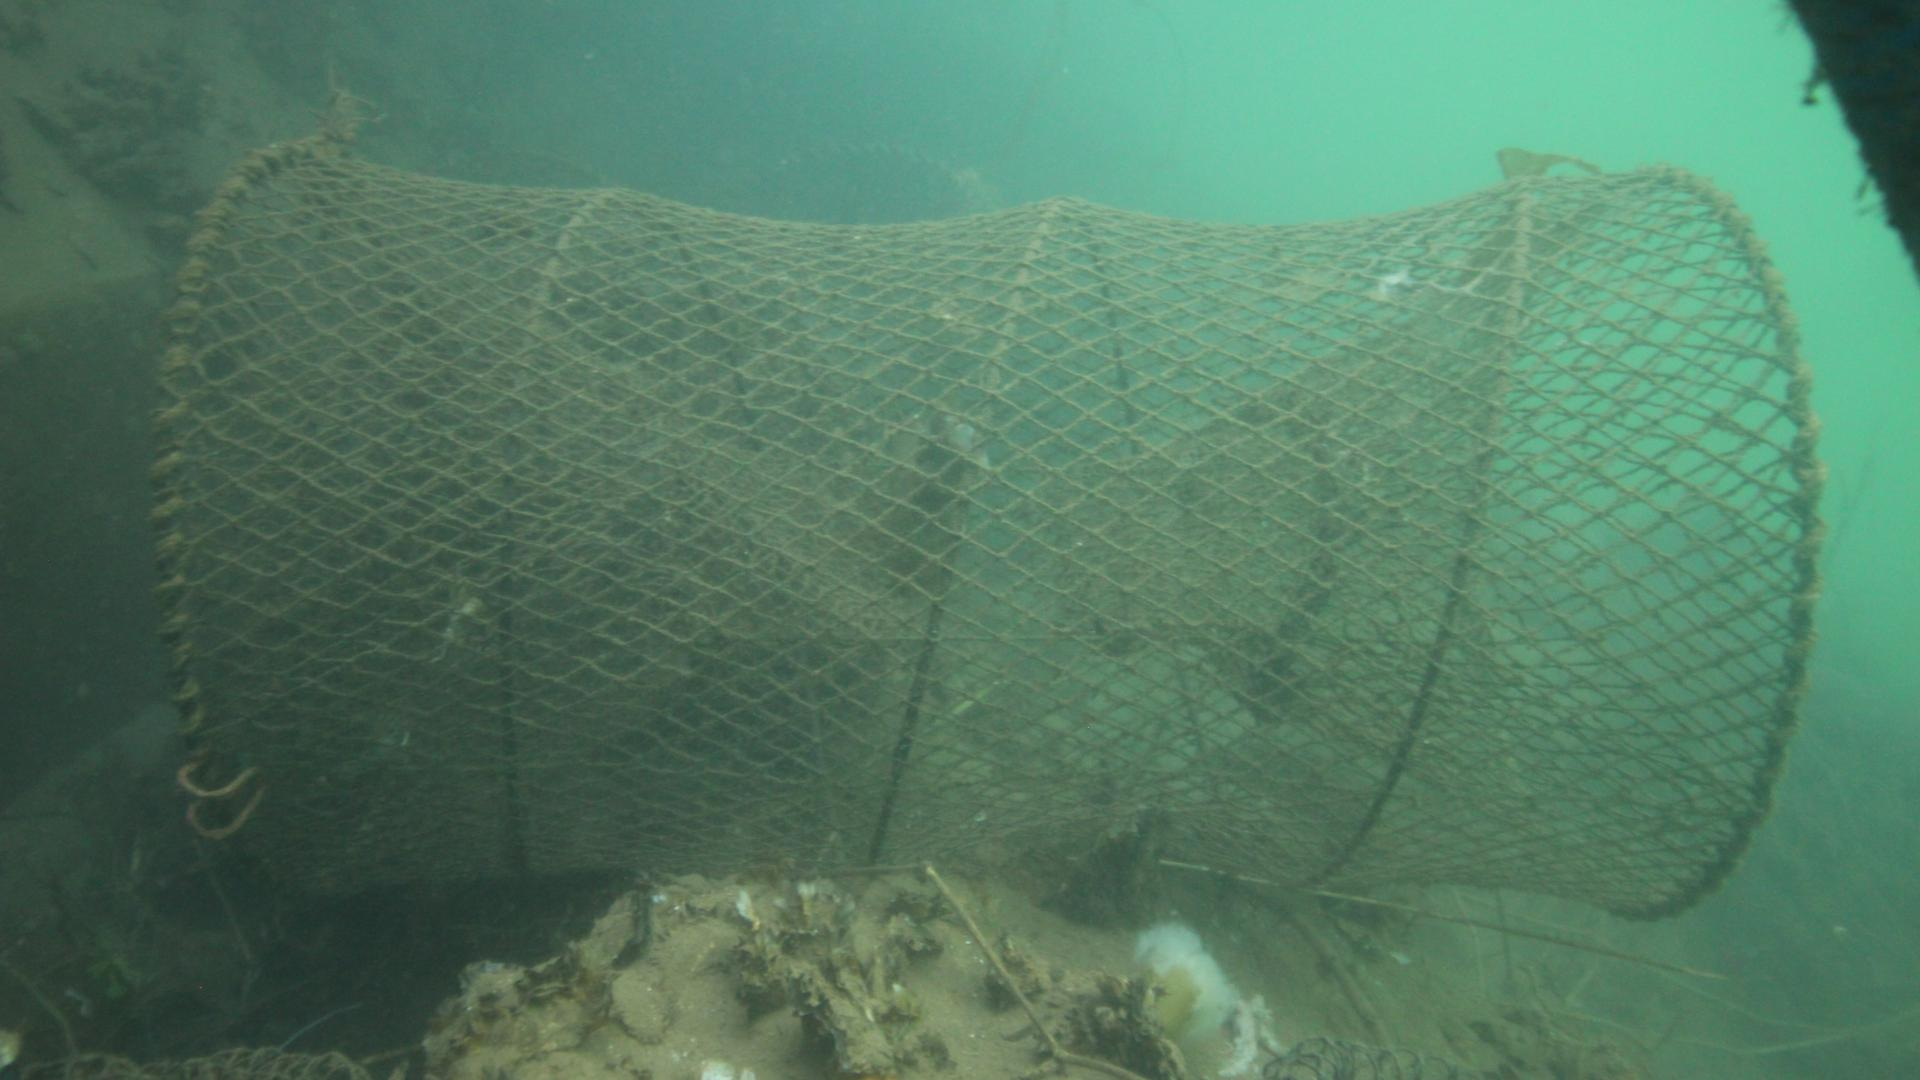spring fish trap: (148, 137, 1830, 916)
